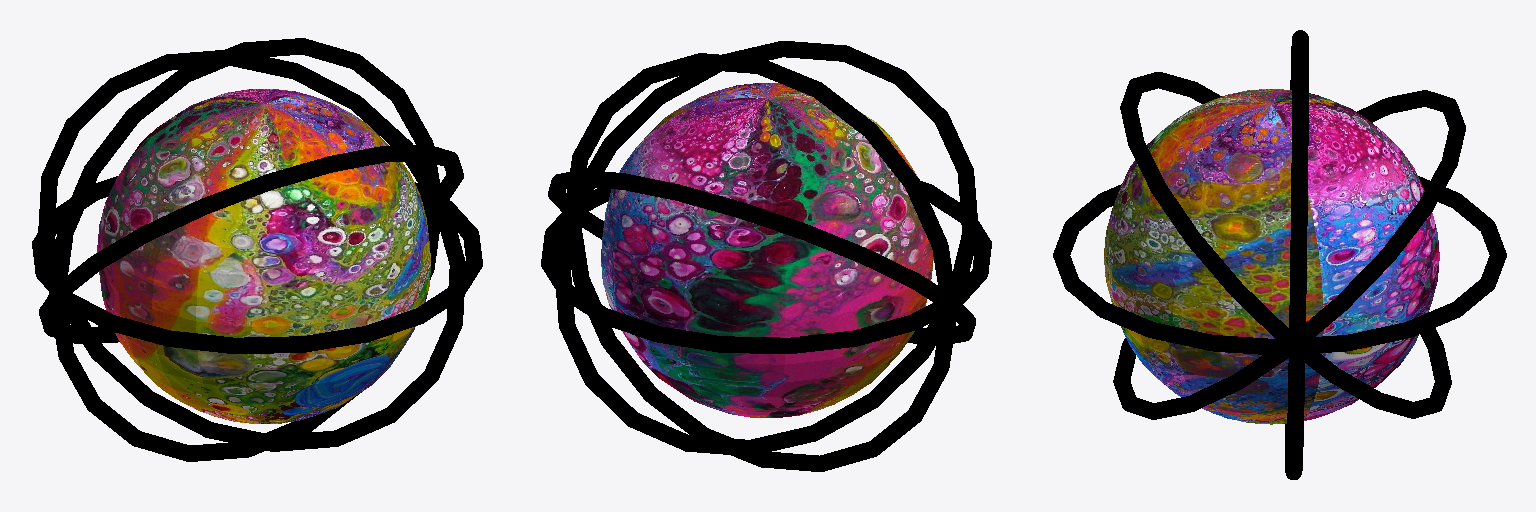
The picture shows the model from 3 angles: view 1: azimuth 30°, elevation 25°; view 2: azimuth 150°, elevation 25°; view 3: azimuth 270°, elevation 25°; orthographic projection.
Visible parts, largest first — view 1: pSphere6, pTorus4, pTorus5, pTorus2, pTorus3; view 2: pSphere6, pTorus3, pTorus5, pTorus2, pTorus4; view 3: pSphere6, pTorus2, pTorus4, pTorus3, pTorus5.
Part boxes in pixels (left/top/right/bottom): pSphere6: left=97, top=89, right=430, bottom=423; pTorus4: left=38, top=50, right=465, bottom=451; pTorus5: left=48, top=38, right=439, bottom=461; pTorus2: left=32, top=176, right=482, bottom=353; pTorus3: left=39, top=144, right=463, bottom=343; pSphere6: left=601, top=83, right=933, bottom=417; pTorus3: left=556, top=41, right=978, bottom=456; pTorus5: left=567, top=53, right=957, bottom=471; pTorus2: left=541, top=181, right=991, bottom=353; pTorus4: left=548, top=170, right=975, bottom=343; pSphere6: left=1104, top=89, right=1439, bottom=424; pTorus2: left=1053, top=176, right=1506, bottom=355; pTorus4: left=1113, top=90, right=1465, bottom=419; pTorus3: left=1120, top=72, right=1451, bottom=418; pTorus5: left=1285, top=30, right=1308, bottom=479.
Size of the model in its own units: 27.21 by 27 by 27.
Materials: 5 (1 with a texture image).